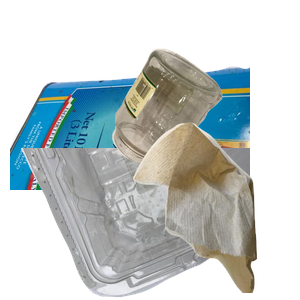glass: (110, 46, 300, 205)
metal: (10, 64, 250, 244)
plastic: (19, 148, 259, 300)
trash: (131, 120, 300, 300)
